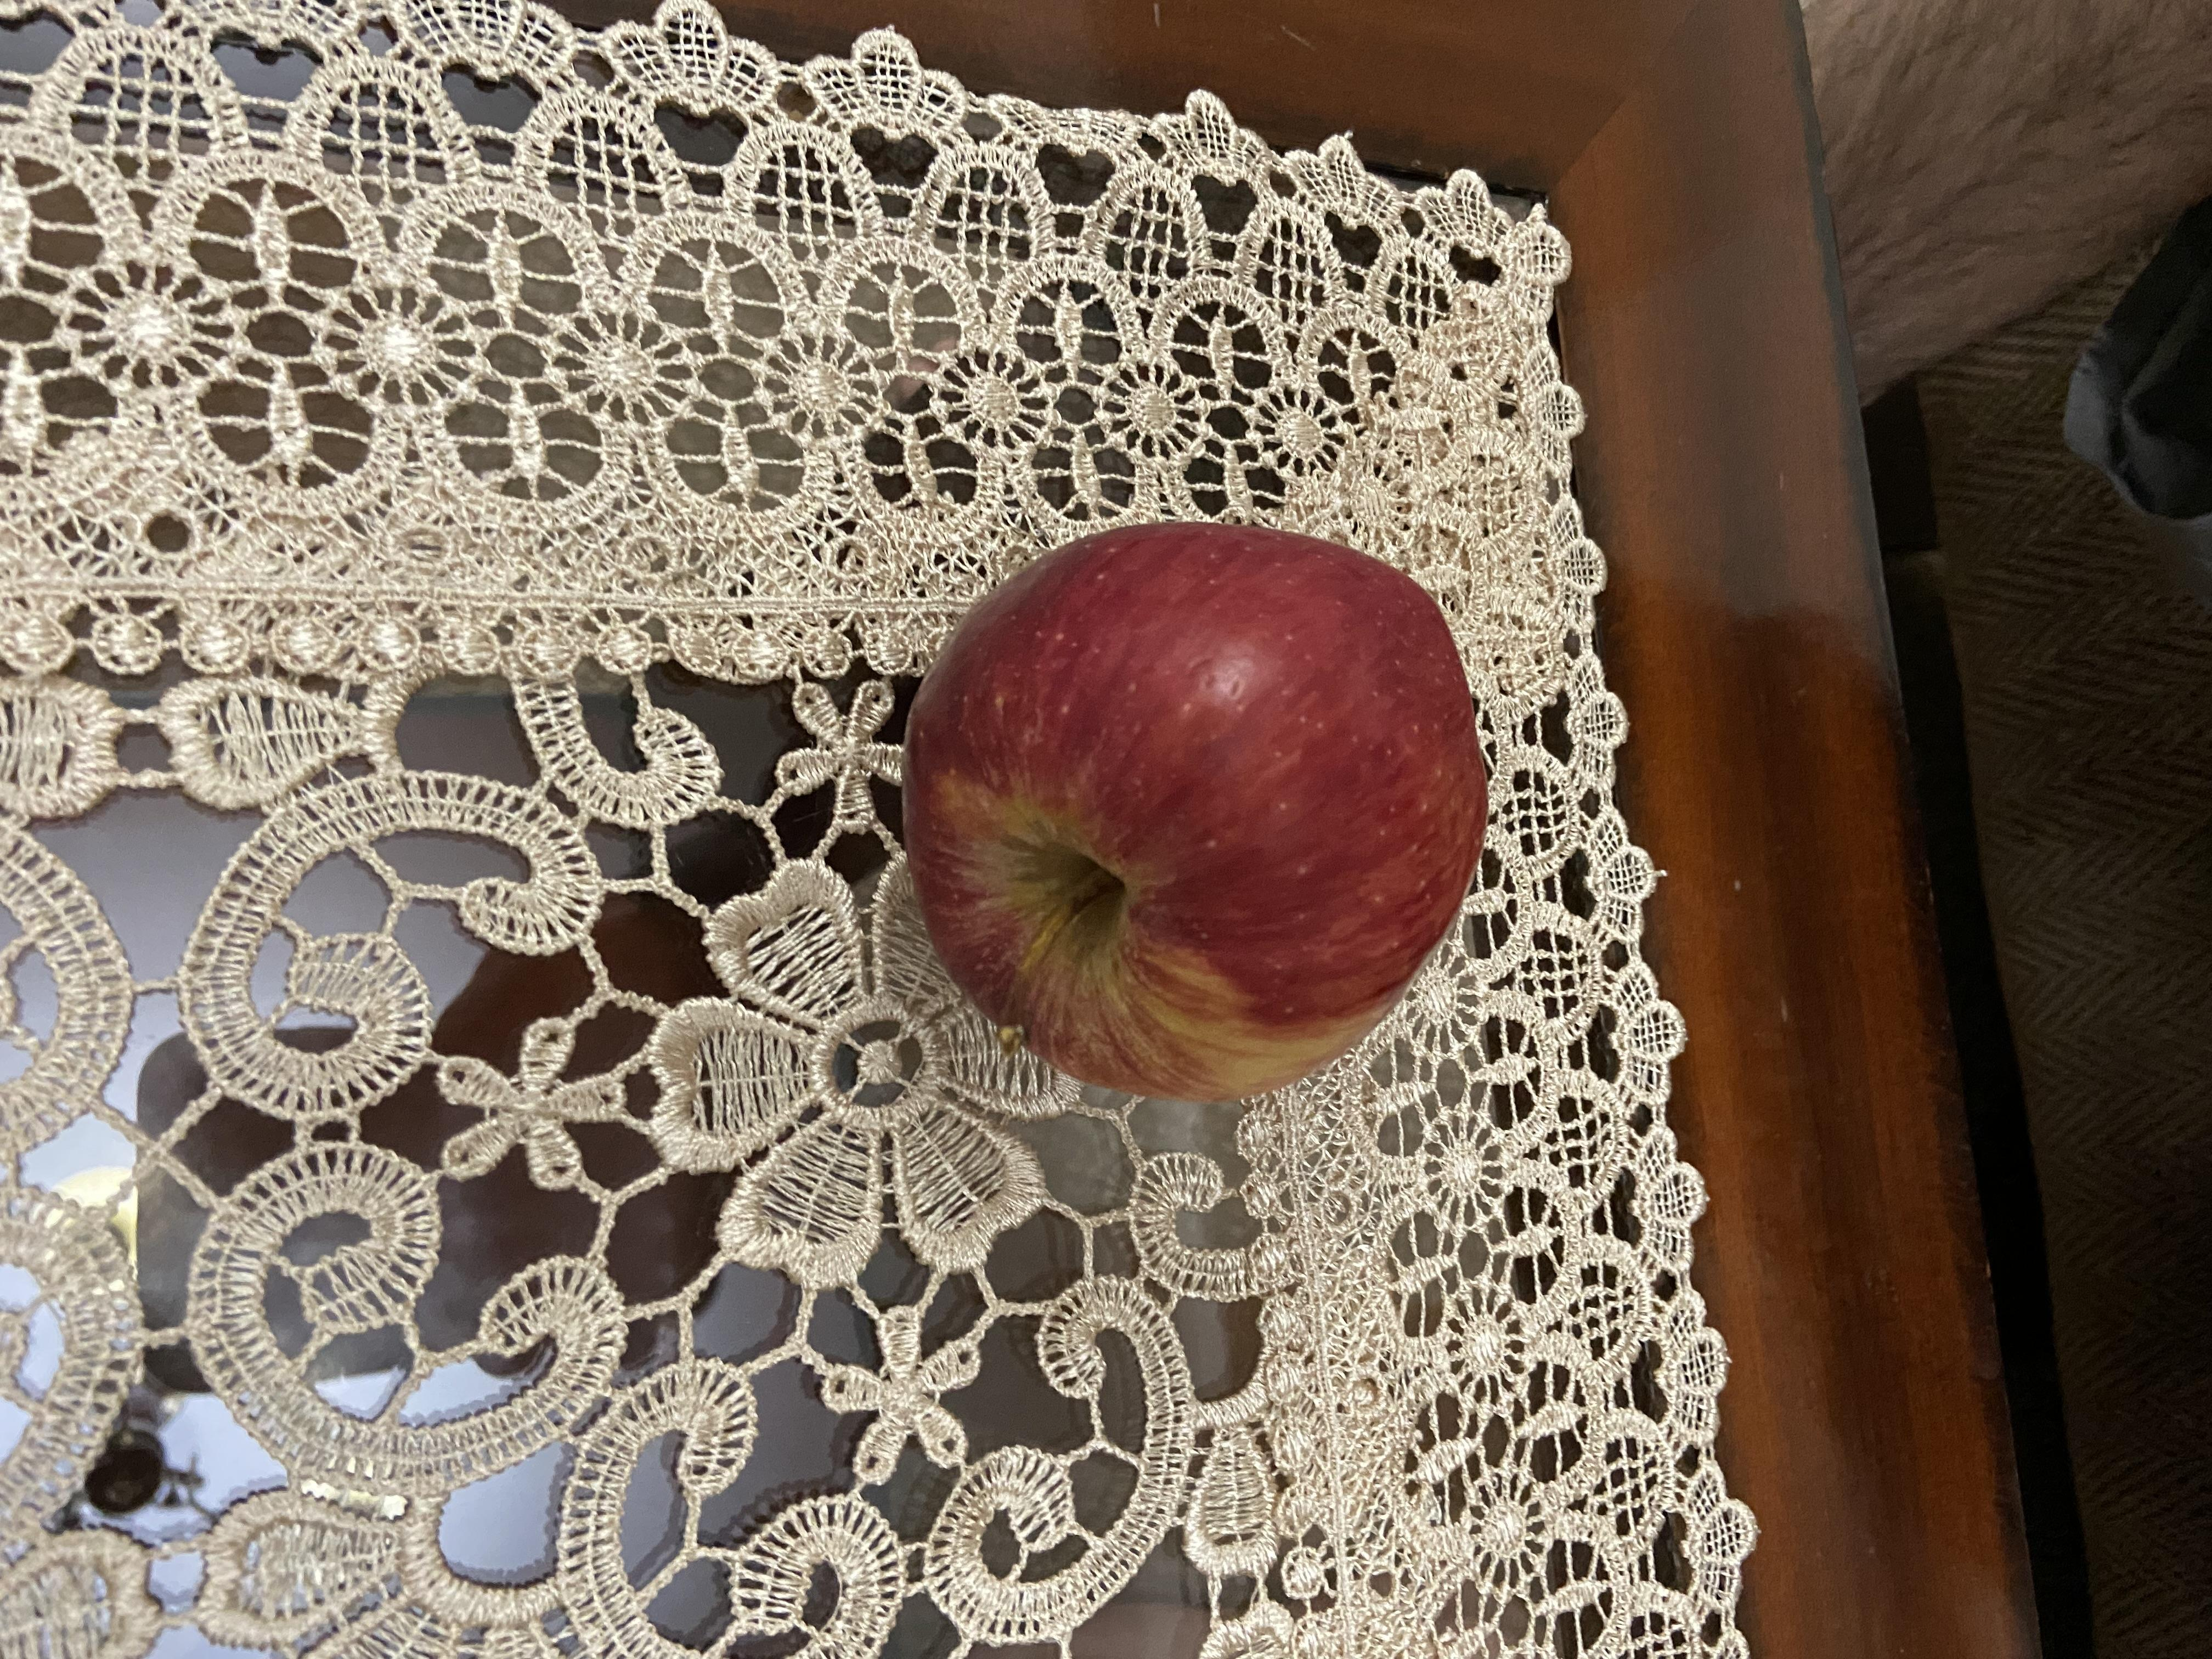Apple: (726, 671, 1545, 1127)
